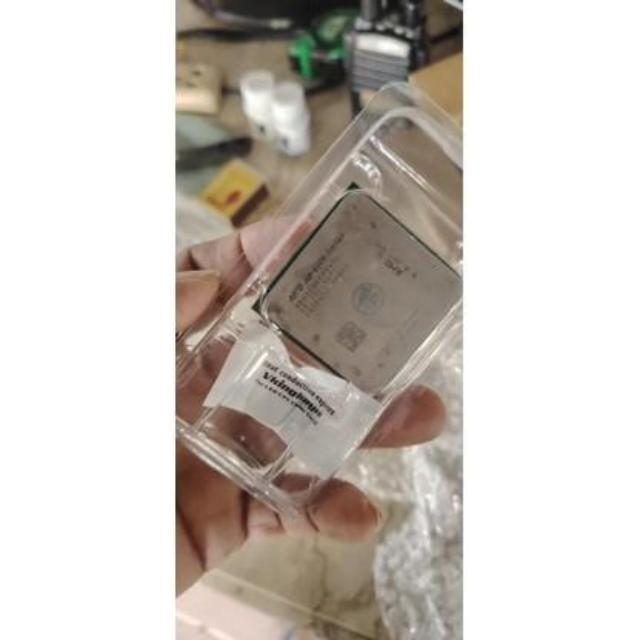CPU: (262, 188, 456, 397)
